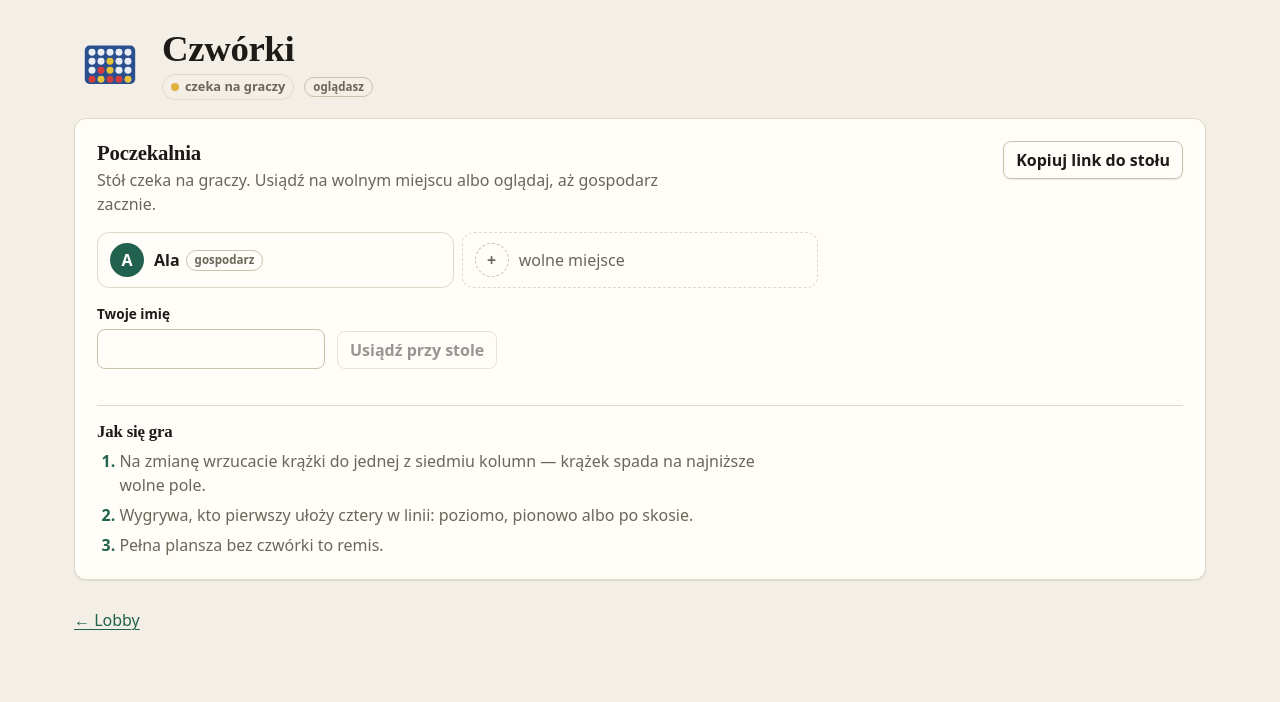
sitting down when watching fails too › unlocks the join button after a refusal
Type "Ola" into the field labelled "Twoje imię" at (211, 349), box [97,329,325,369]
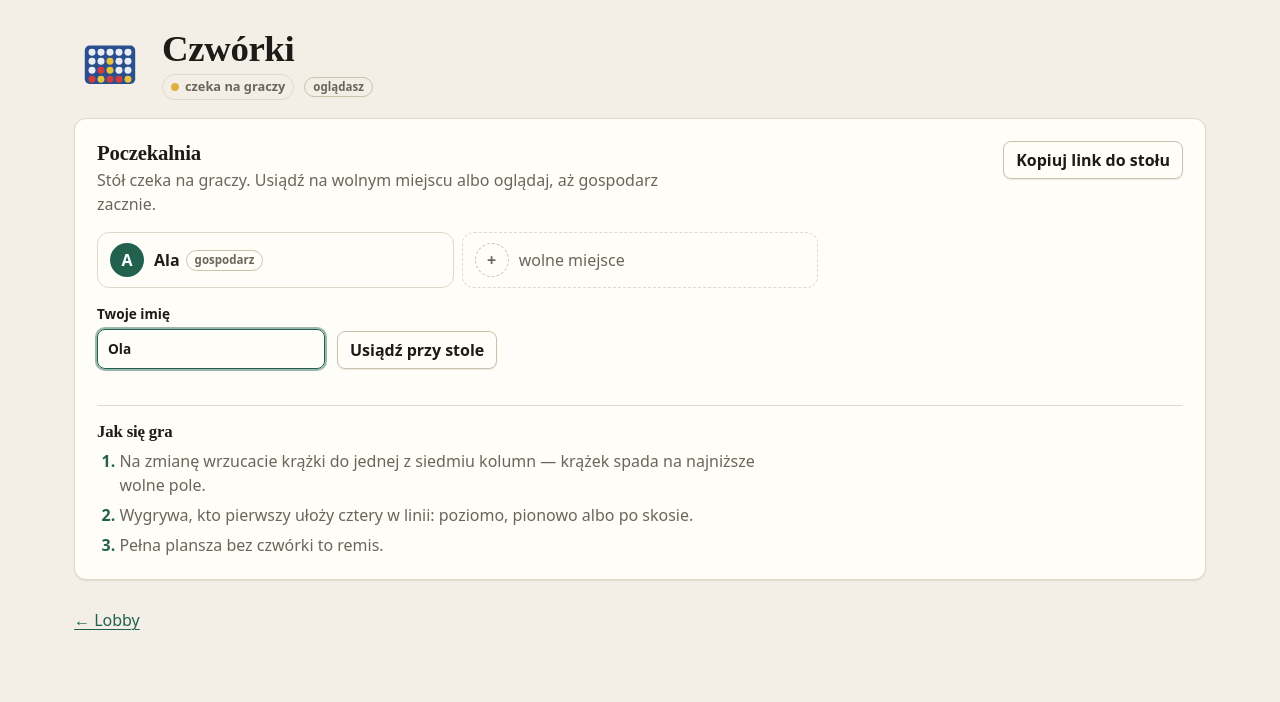
Click the button "Usiądź przy stole" at (417, 350), box [337,331,497,369]
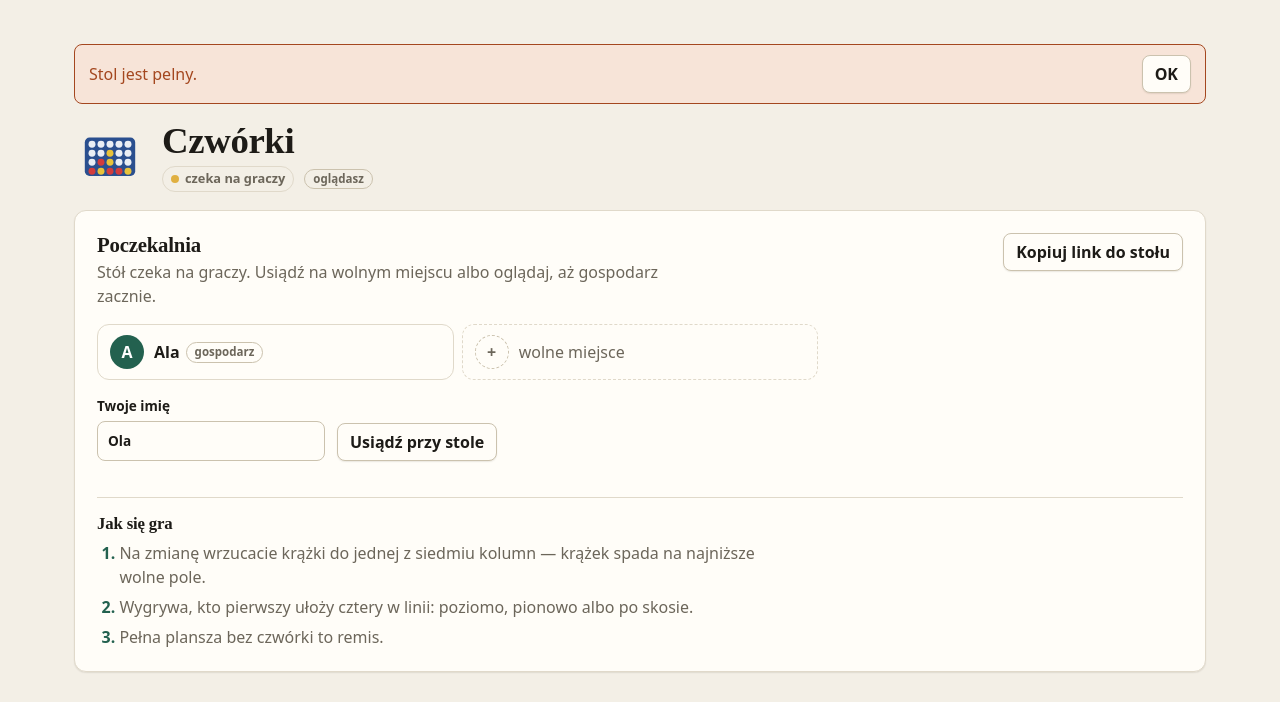
Now the button "Usiądź przy stole" is enabled, box [337,423,497,461]
Now the message shows "Stol jest pelny.", box [89,63,197,85]
